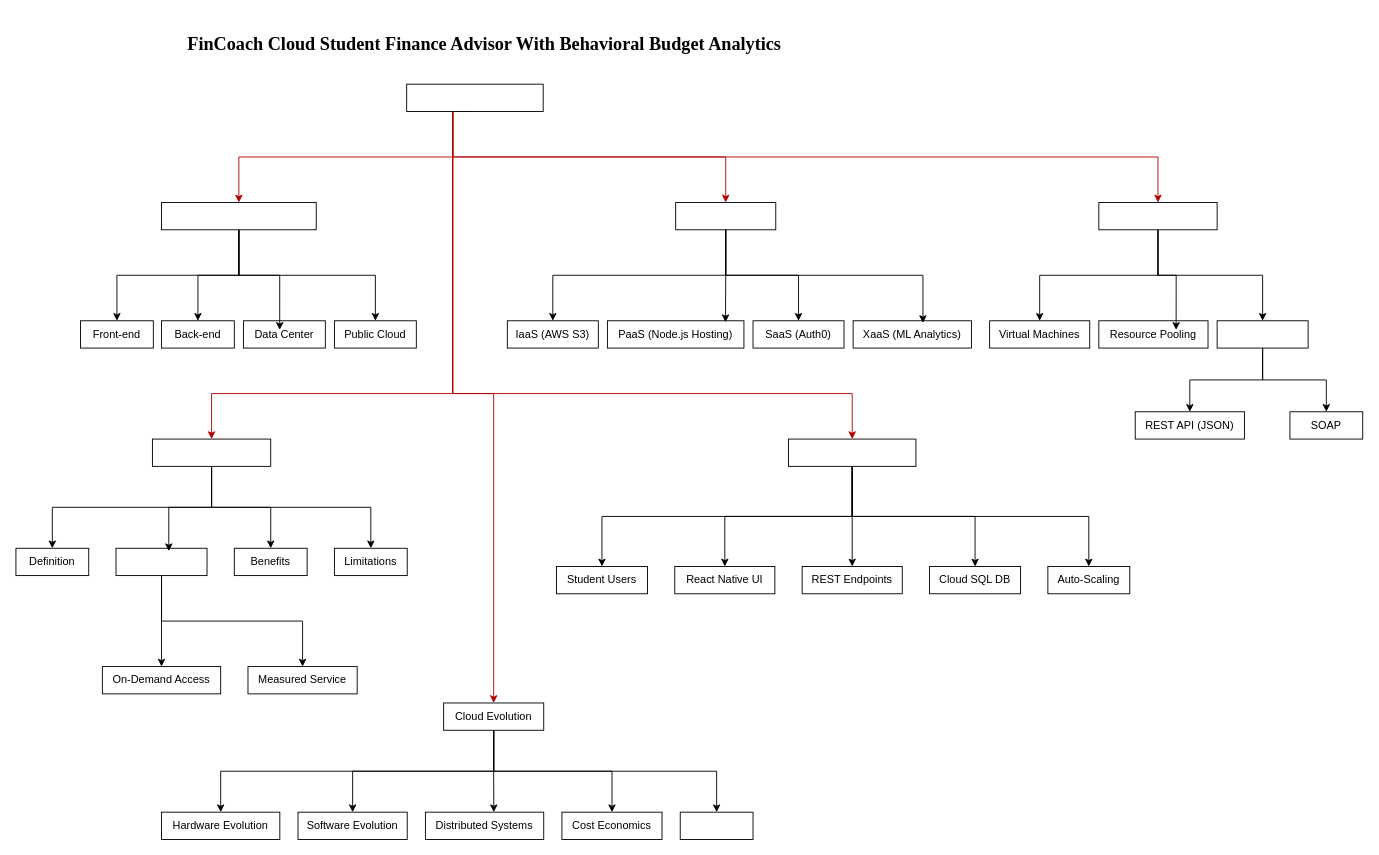
This 1379x855 diagram has some shape labels left out. The shapes that lost their labels are listed below. From the top down, each one's box as (x1, y1, x2, y2) in pixels, then its label:
(406, 83, 543, 111): FinCoach Cloud Advisor
(161, 202, 316, 230): Architecture & Deployment
(675, 202, 776, 230): Service Models
(1098, 202, 1217, 230): Virtualization & APIs
(1216, 320, 1308, 348): Web Services
(152, 438, 271, 466): Cloud Fundamentals
(788, 438, 916, 466): Capstone Connection
(115, 547, 207, 576): Characteristics
(679, 811, 753, 839): Big Data
